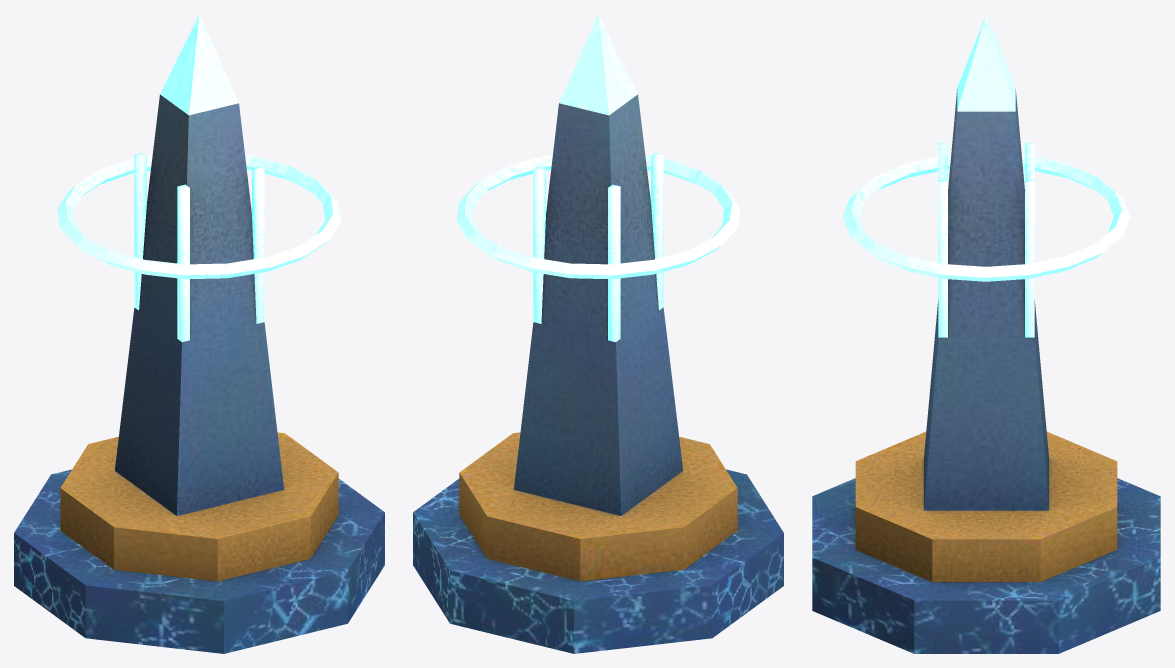
The model's file is pylon_frost.glb.
3 renders of one model, left to right at view 1: azimuth 30°, elevation 25°; view 2: azimuth 150°, elevation 25°; view 3: azimuth 270°, elevation 25°, orthographic.
Parts seen in each view (by area): view 1: pylon_frost; view 2: pylon_frost; view 3: pylon_frost.
Part boxes in pixels (<box>): pylon_frost: <box>14,14,384,653</box>; pylon_frost: <box>413,14,783,653</box>; pylon_frost: <box>812,14,1160,653</box>.
Bounding box in the file's own units: 2.96 × 5.3 × 2.96.
1 material, 1 textured.
